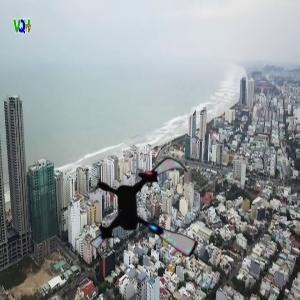drone: (82, 150, 211, 279)
